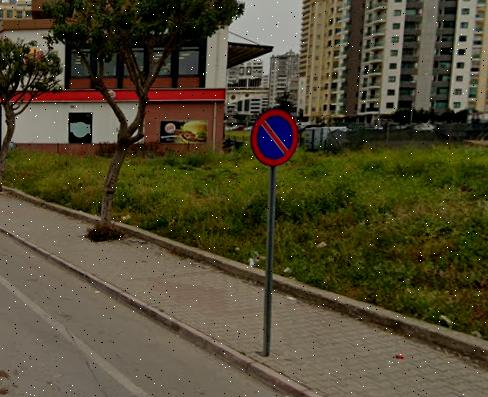nopark: (253, 109, 297, 164)
